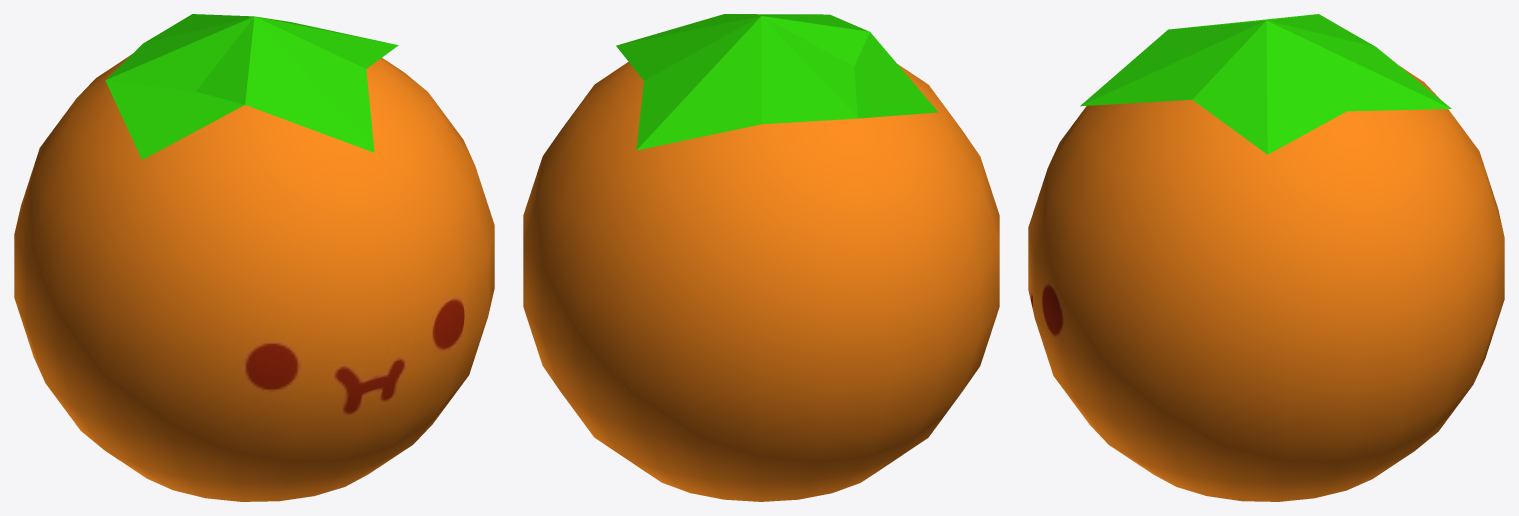
The model's file is fruit_4.glb.
The picture shows the model from 3 angles, left to right: view 1: azimuth 30°, elevation 25°; view 2: azimuth 150°, elevation 25°; view 3: azimuth 270°, elevation 25°; orthographic projection.
Parts seen in each view (by area): view 1: 4_FRUIT; view 2: 4_FRUIT; view 3: 4_FRUIT.
Boxes of the visible parts, x1,y1,x2,y2 form: 4_FRUIT: (14, 14, 494, 501); 4_FRUIT: (523, 14, 999, 501); 4_FRUIT: (1028, 14, 1504, 501).
Size of the model in its own units: 2.07 by 2.22 by 2.08.
Materials: 2 (1 with a texture image).
